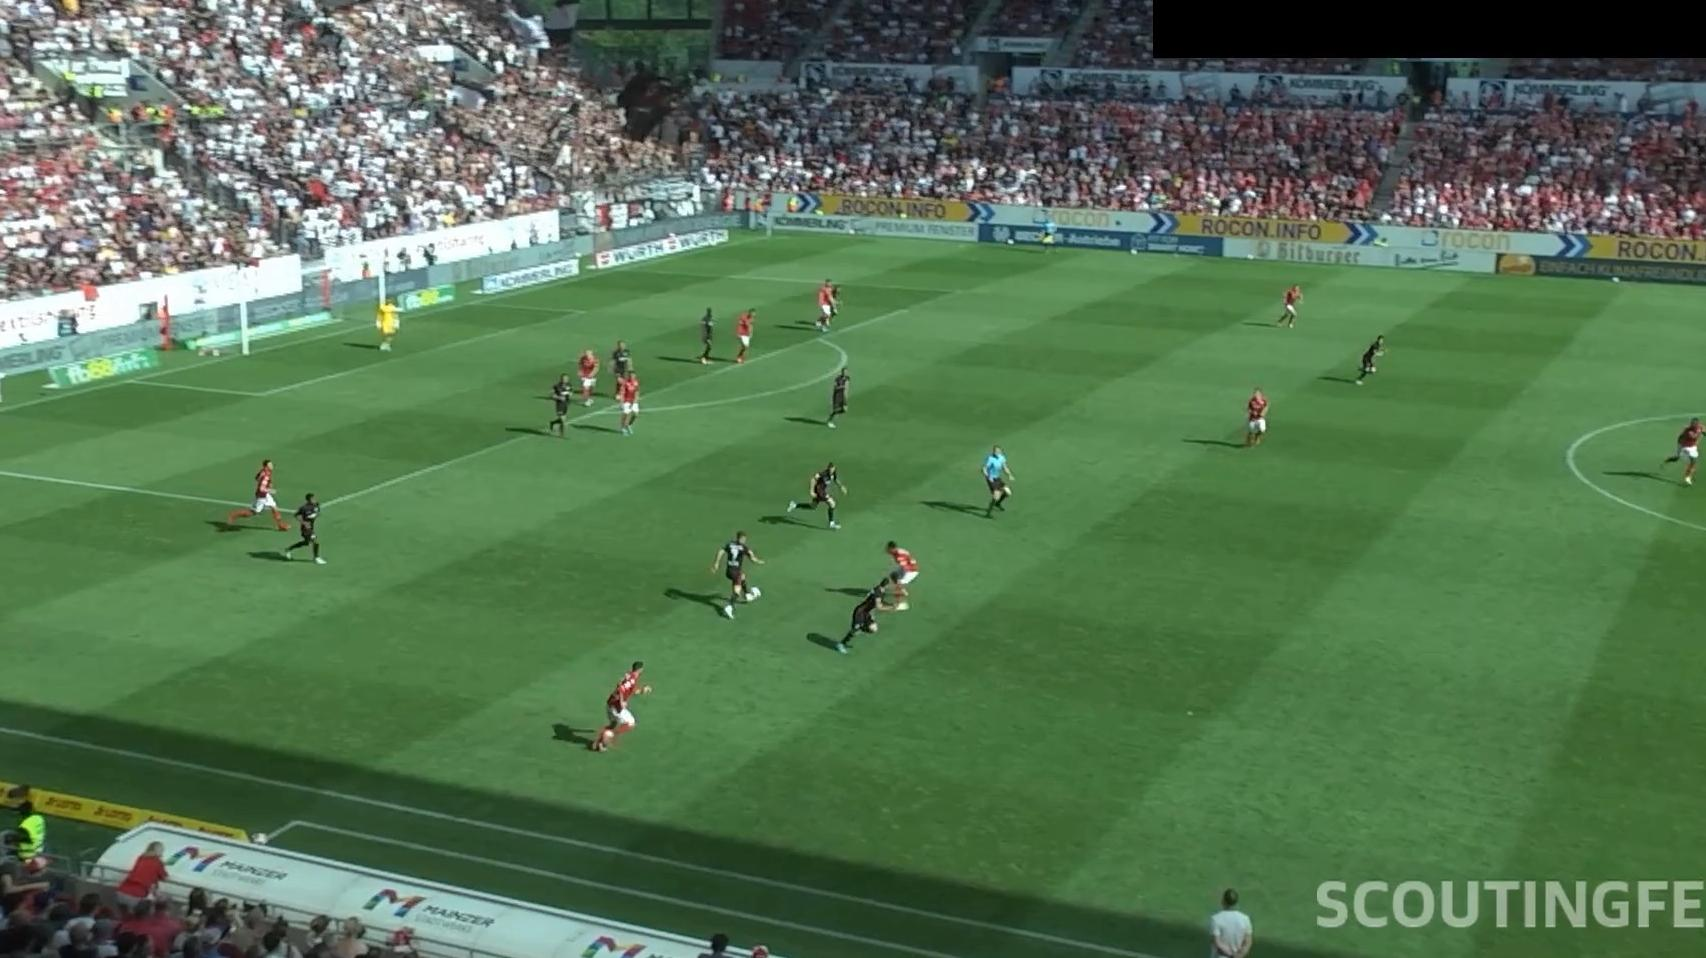ball: (748, 586, 763, 601)
